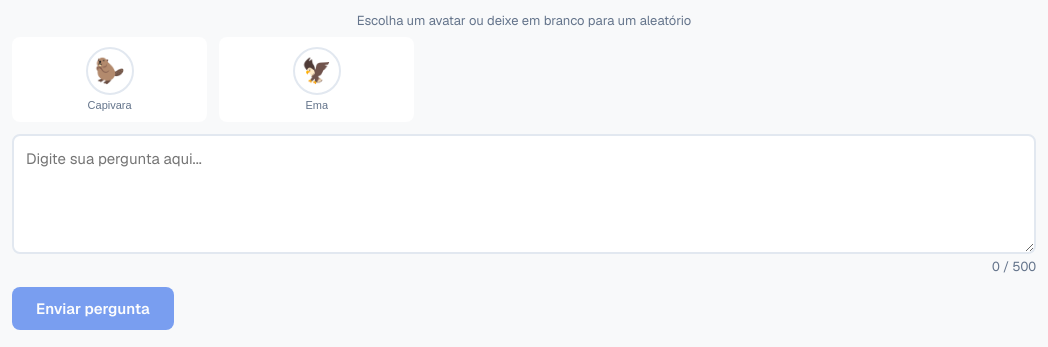
it: QuestionForm › should enable submit button when text meets minimum length
Type "Valid question text" into the text box named "Texto da pergunta" at (524, 194), box [12, 134, 1036, 254]
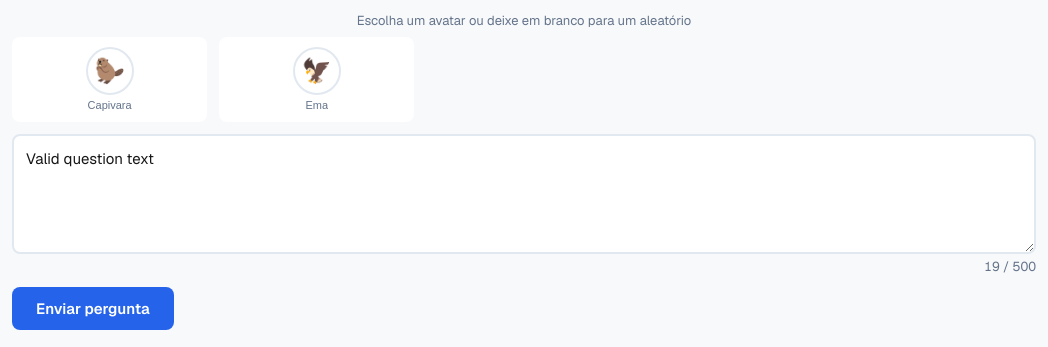
expect the button "Enviar pergunta" is enabled: met, box [12, 287, 174, 330]
